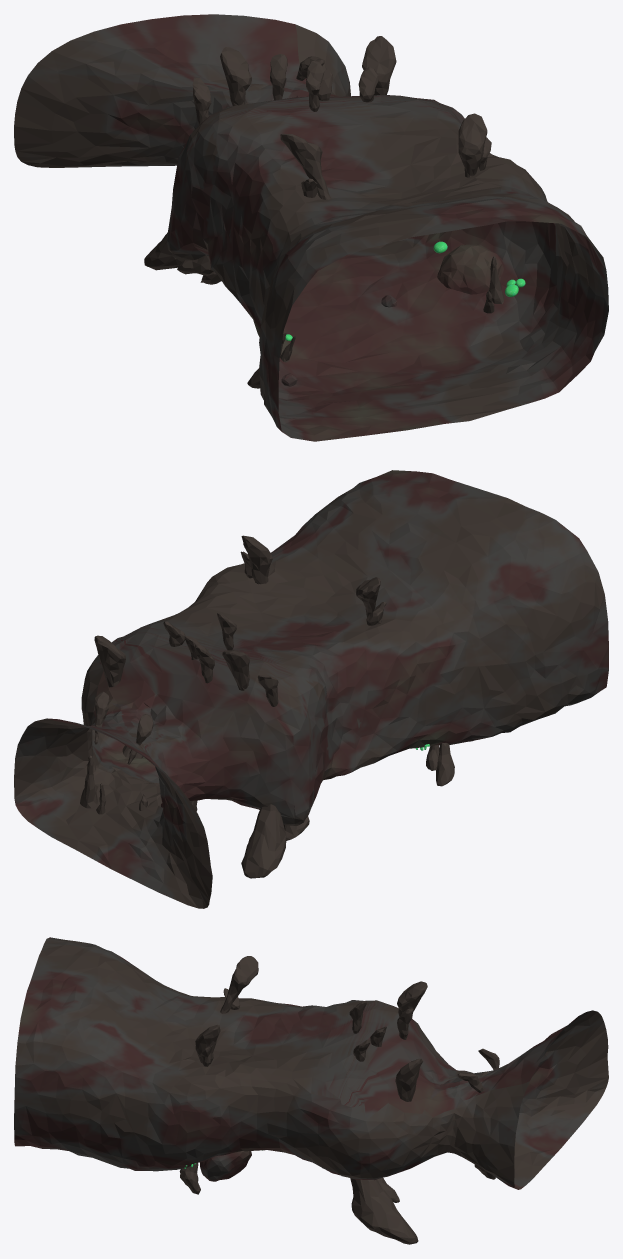
File: cave2.fbx
3 renders of one model, top to bottom at view 1: azimuth 30°, elevation 25°; view 2: azimuth 150°, elevation 25°; view 3: azimuth 270°, elevation 25°, orthographic. The views are drawn at different scales.
Visible parts, largest first — view 1: Cave; view 2: Cave; view 3: Cave.
Part boxes in pixels (bbox=[...]): Cave: bbox=[14, 14, 608, 441]; Cave: bbox=[14, 470, 608, 908]; Cave: bbox=[14, 937, 608, 1244].
Size of the model in its own units: 4808 by 3208 by 8302.
Materials: 2 (2 with a texture image).
